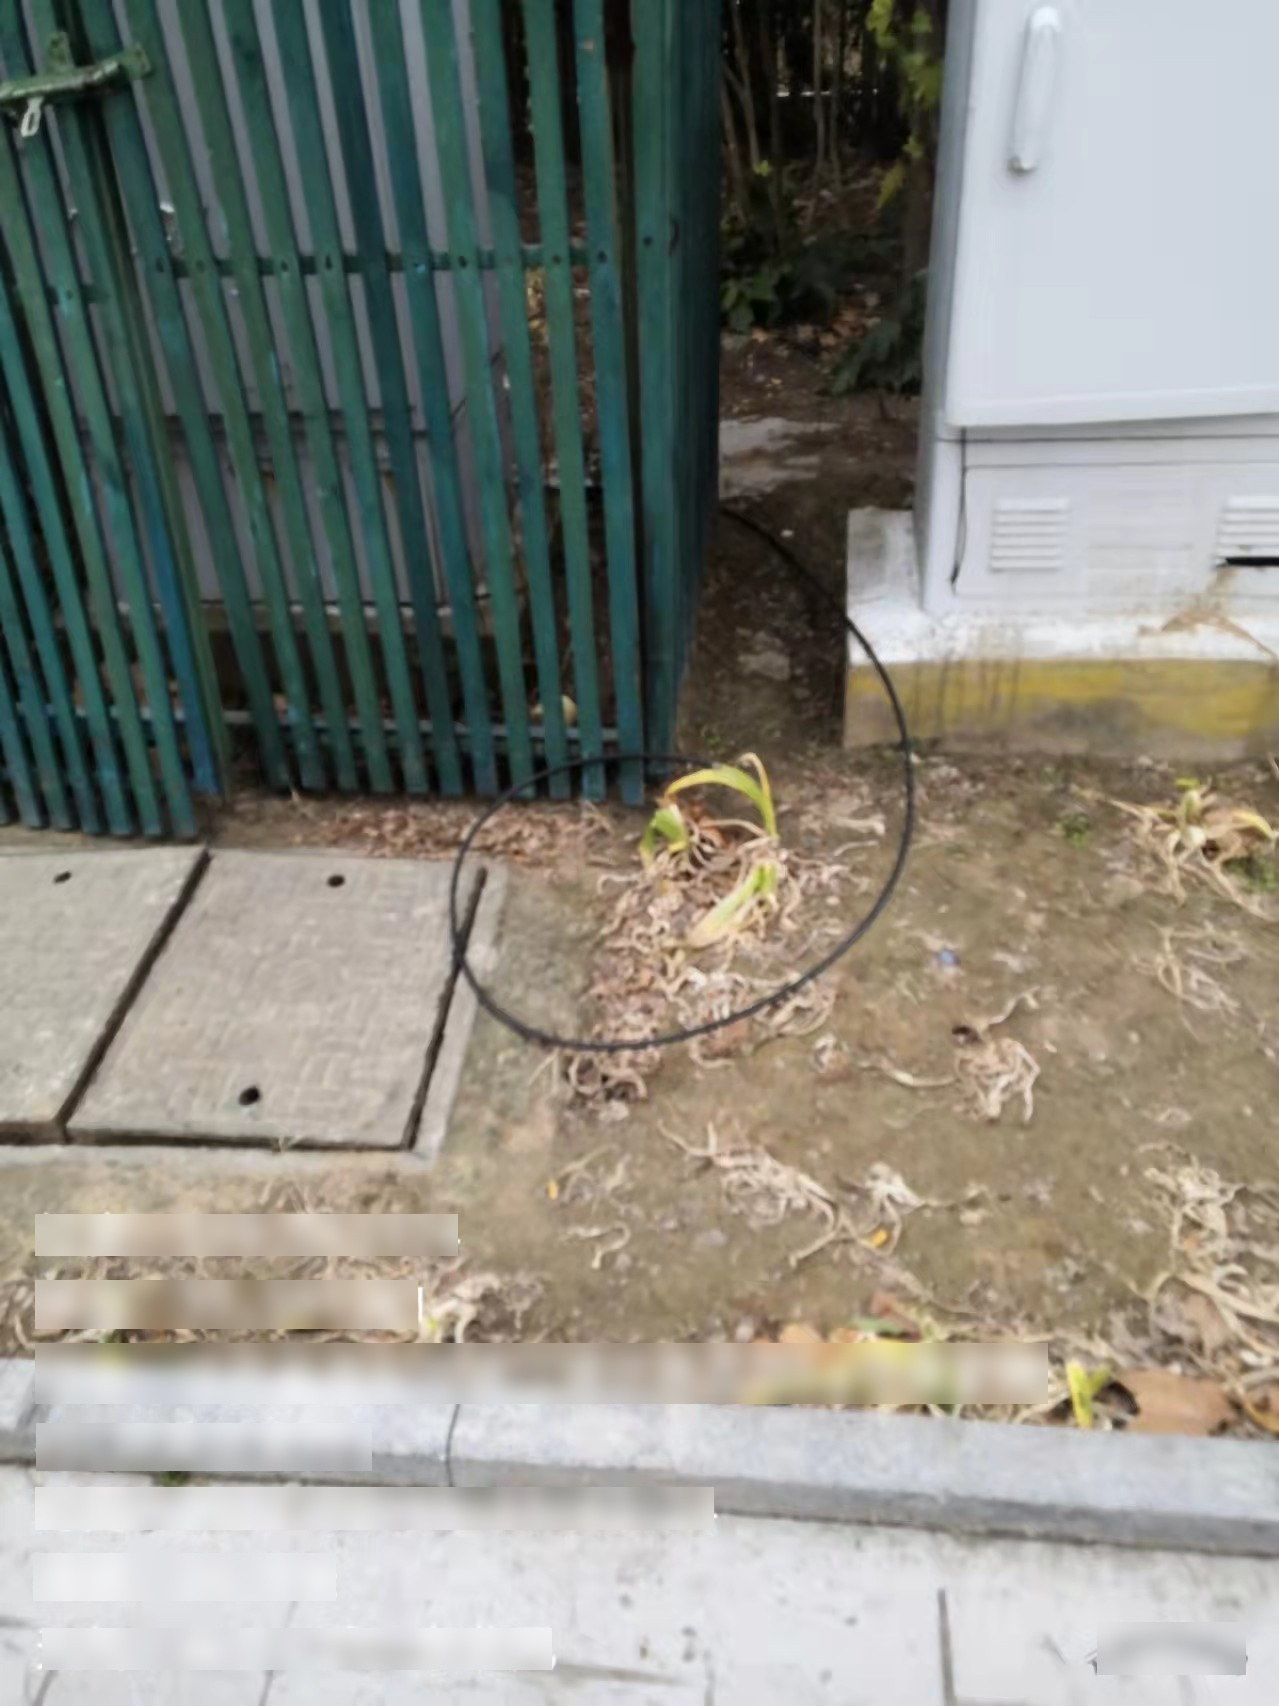uncovered: (1, 846, 498, 1179)
